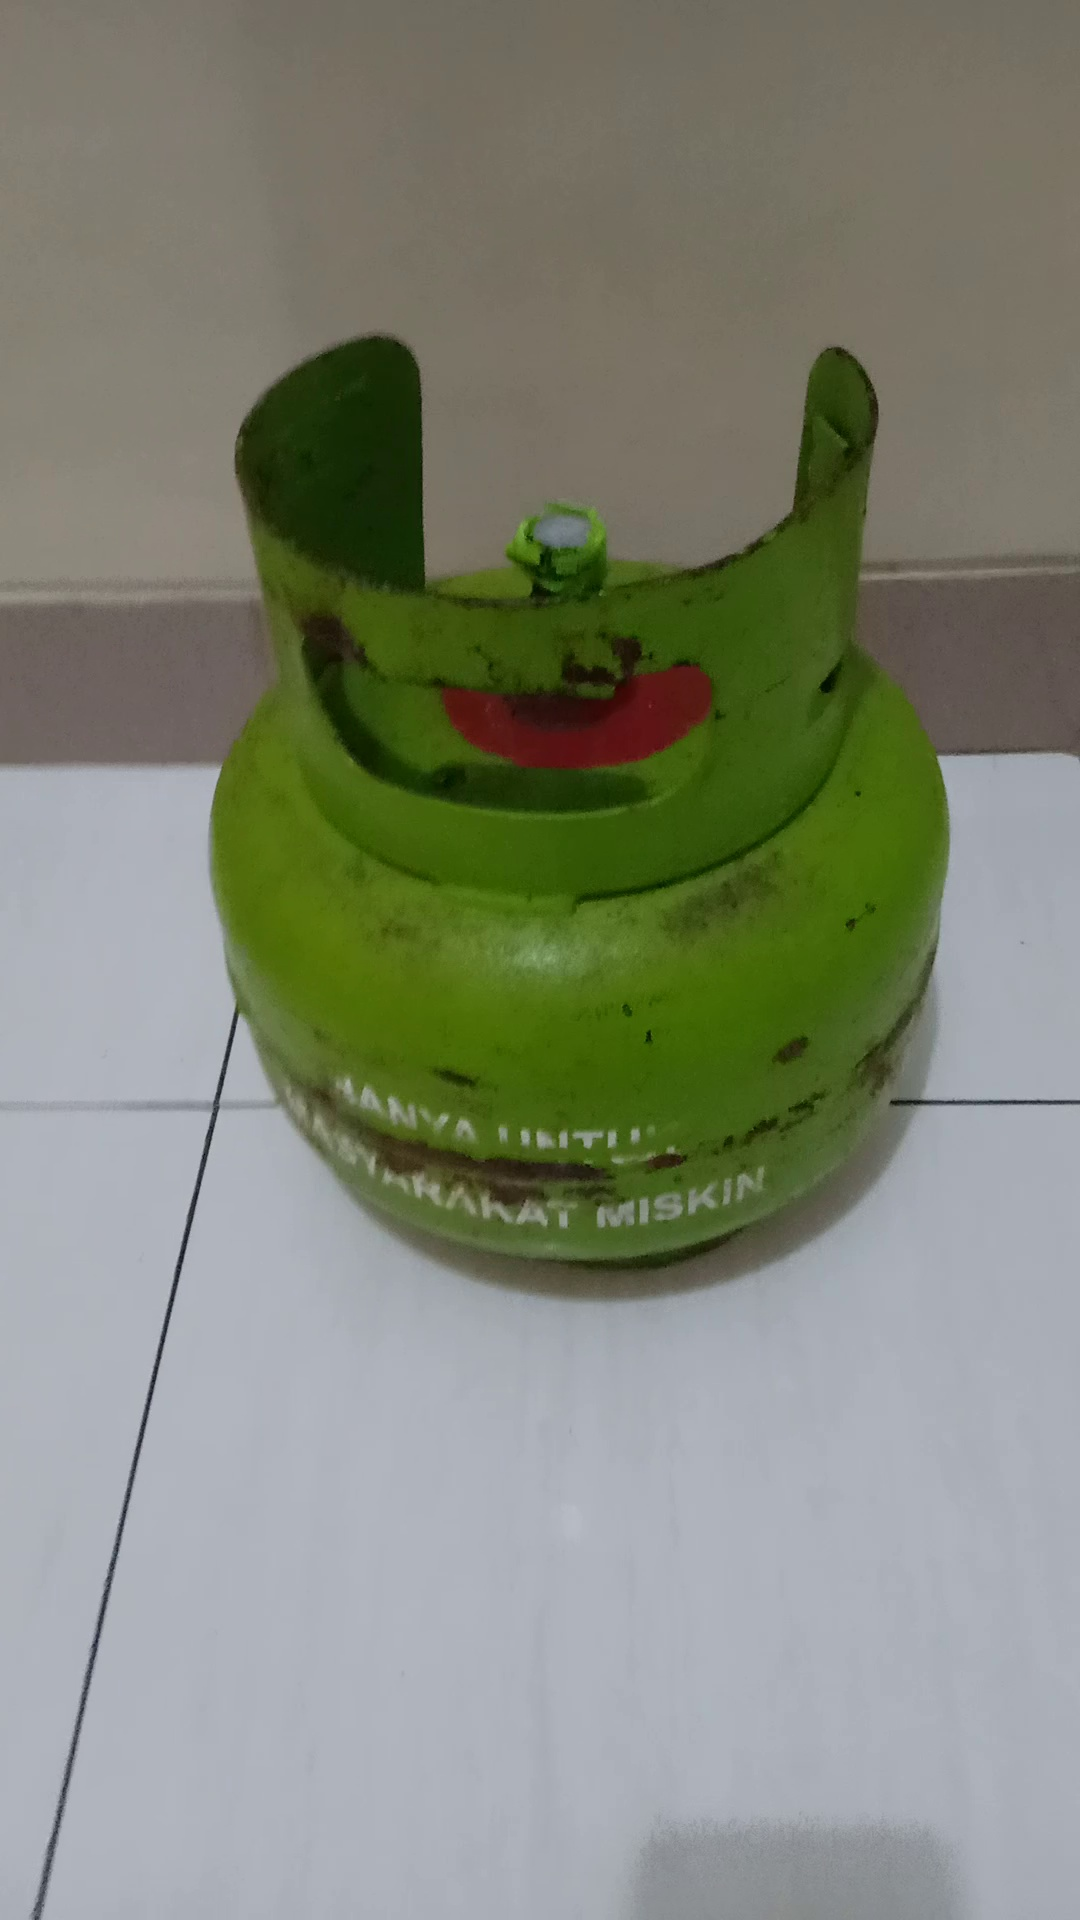gas_ijo: (212, 328, 957, 1299)
